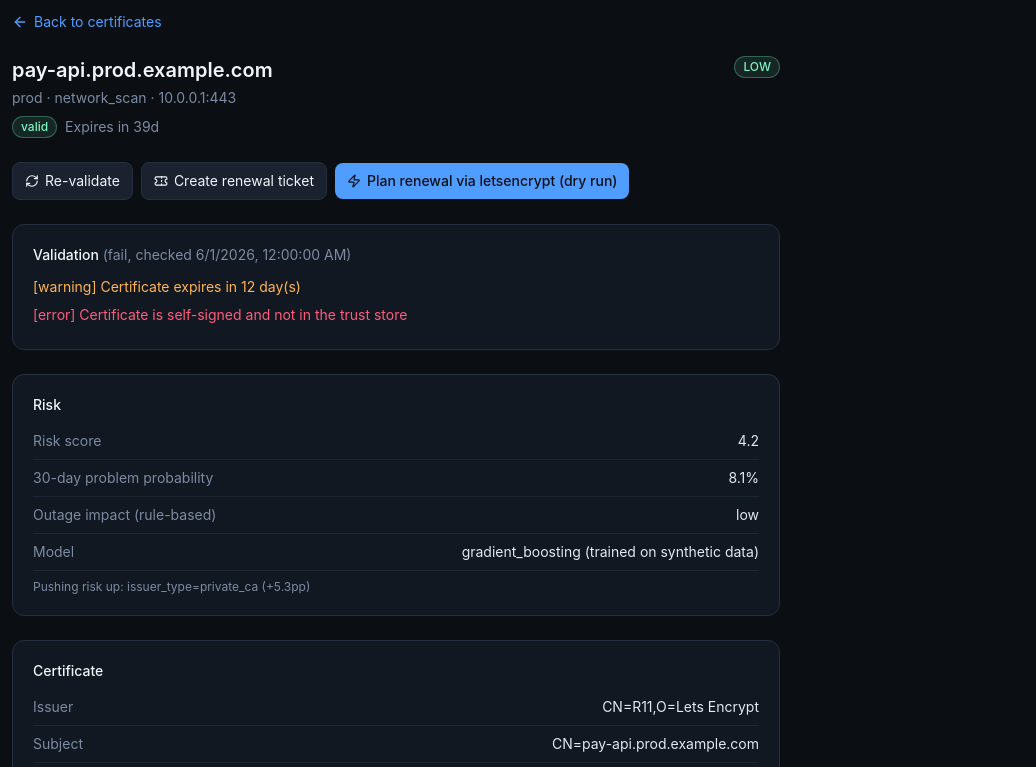
Test case: CertificateDetail: plan, approve, execute › shows the server message when approval or execution is refused
The image size is (1036, 767).
Click the button "Plan renewal via letsencrypt (dry run)": click(482, 181) [335, 163, 630, 199]
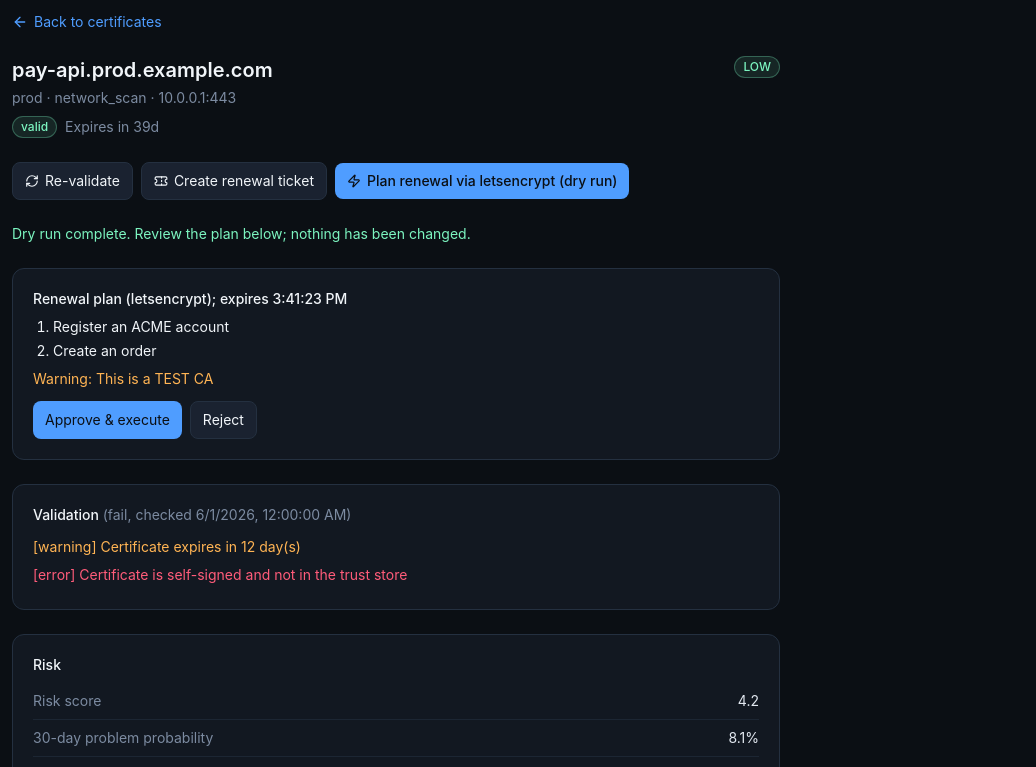
Click the button "Approve & execute": click(107, 420) [33, 401, 182, 439]
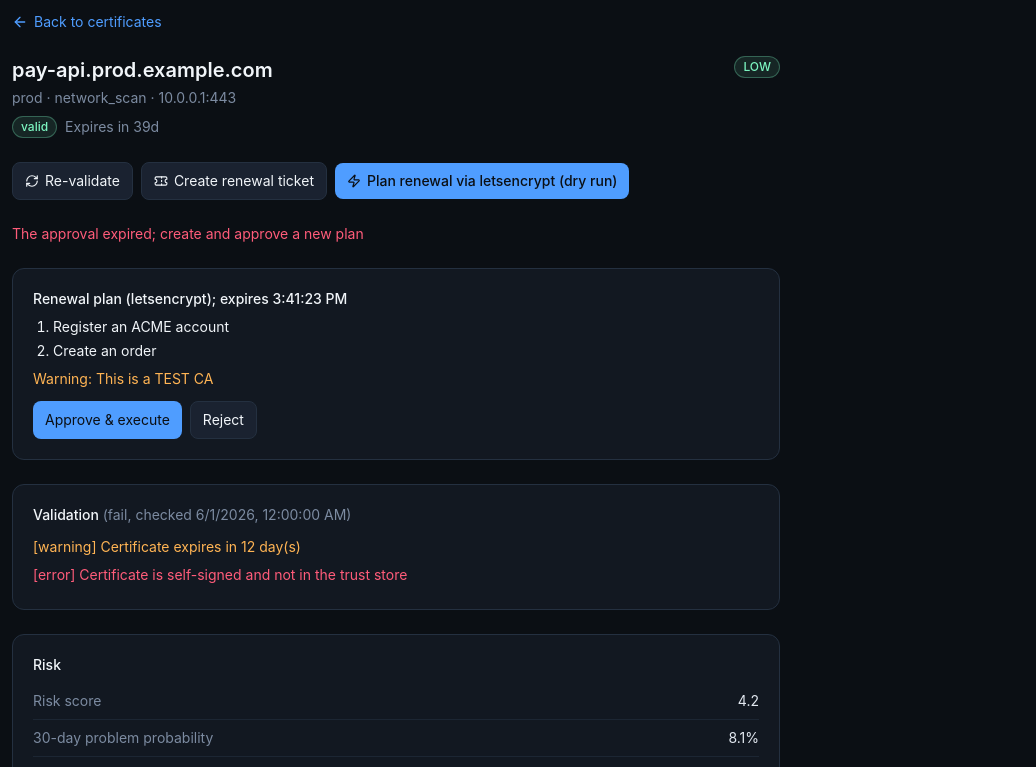
Now the message shows "The approval expired", box [12, 225, 364, 242]
